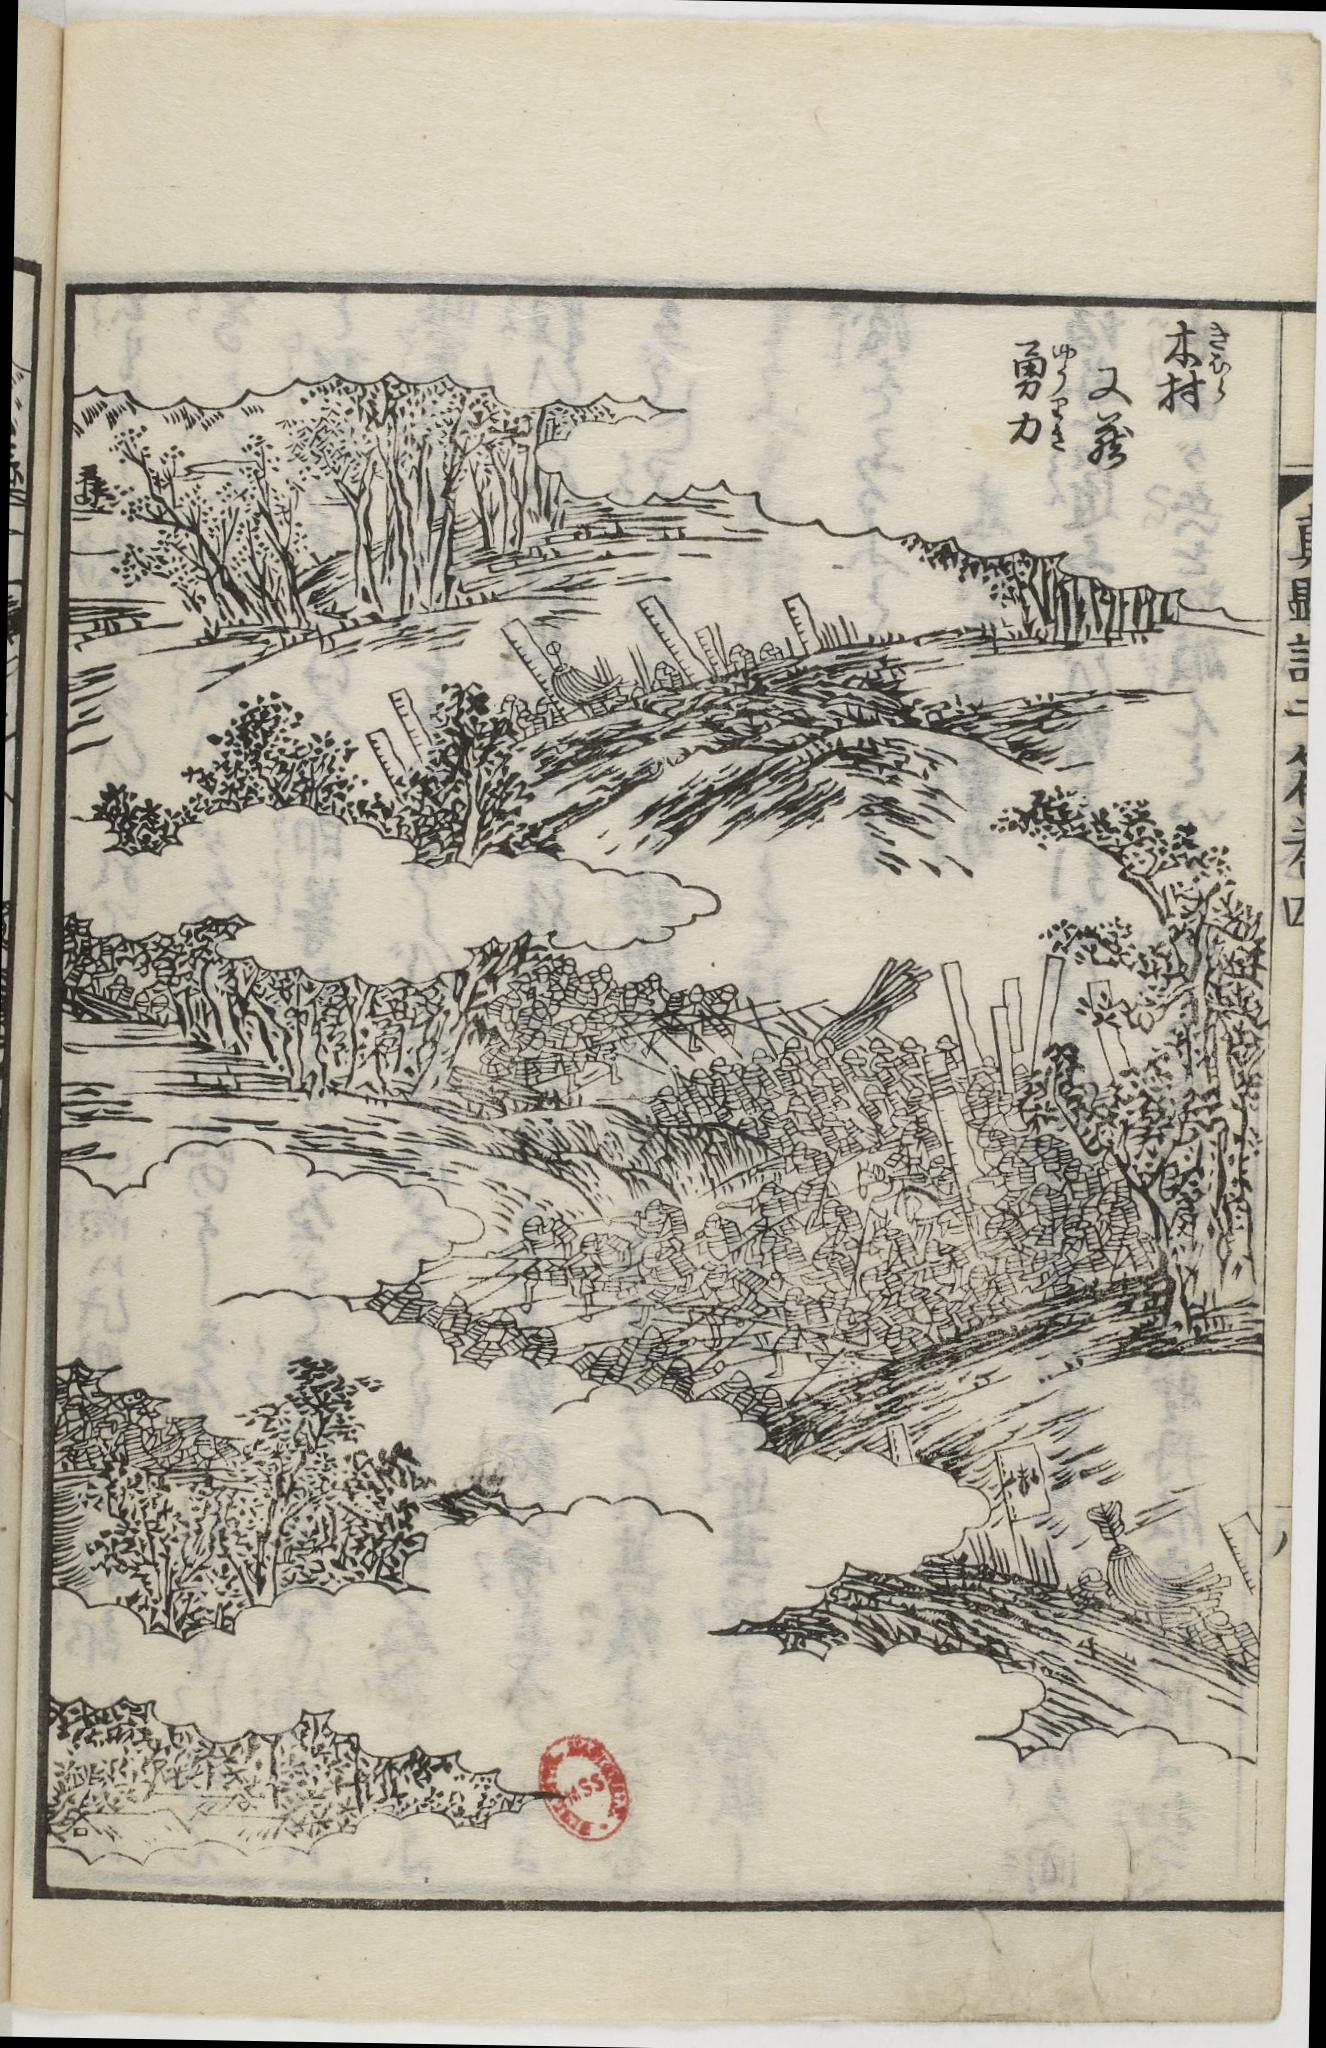MainZone-Character: (992, 399, 1071, 452), (1008, 337, 1074, 399), (1160, 318, 1233, 370), (1156, 372, 1236, 416)
MainZone-Ruby: (1048, 340, 1077, 394), (1042, 396, 1069, 452), (1207, 322, 1233, 372), (1205, 375, 1233, 405)
